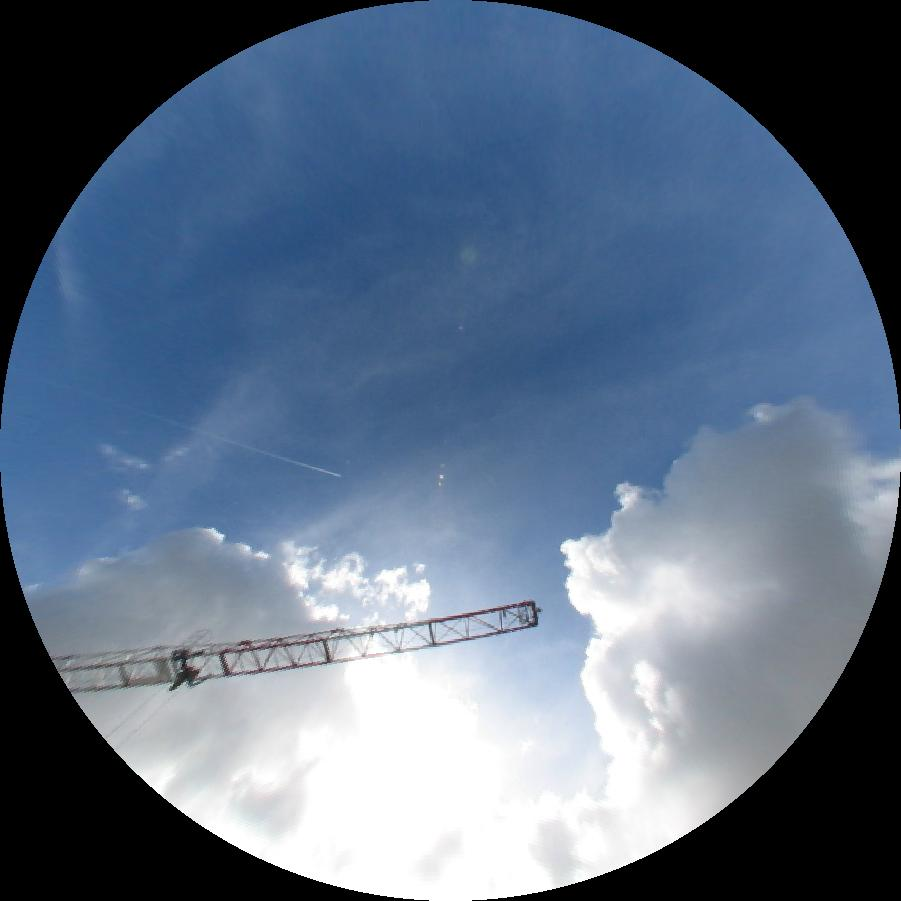contrail young: (9, 369, 344, 481)
sun: (330, 657, 496, 856)
